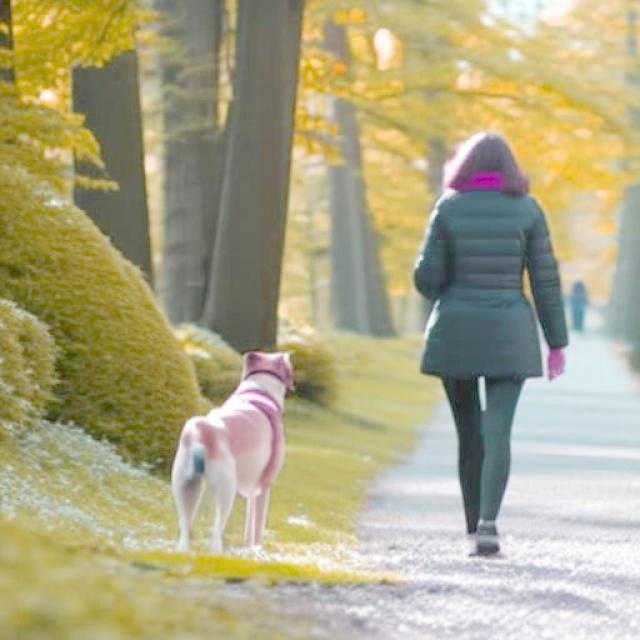Unleashed_Dog: (172, 351, 526, 558)
